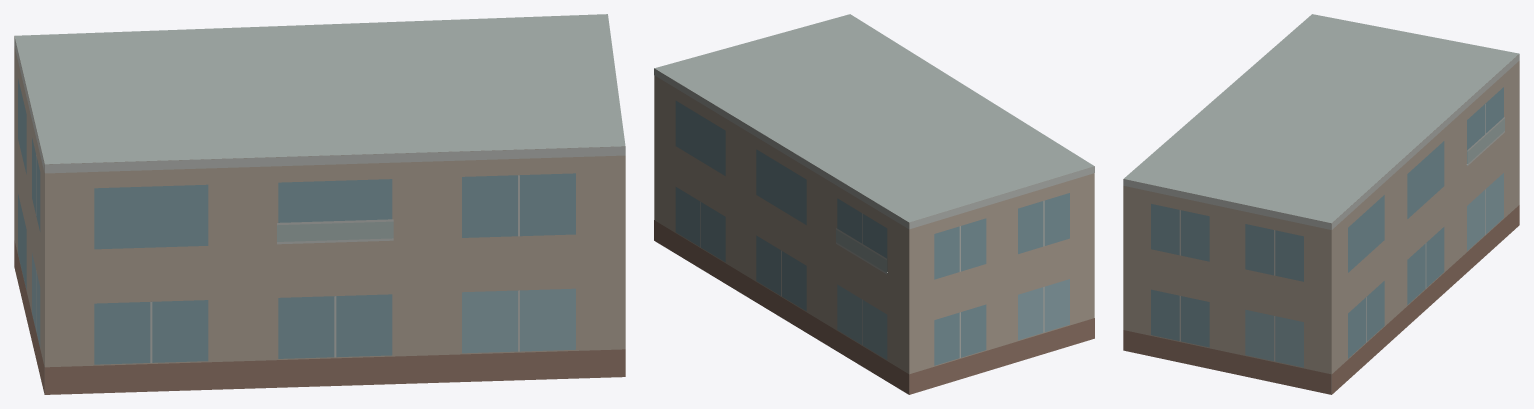
File: survey-upis-32590839.glb
The picture shows the model from 3 angles, left to right: view 1: azimuth 30°, elevation 25°; view 2: azimuth 150°, elevation 25°; view 3: azimuth 270°, elevation 25°; orthographic projection. The views are drawn at different scales.
Visible parts, largest first — view 1: survey-upis-32590839.tmp; view 2: survey-upis-32590839.tmp; view 3: survey-upis-32590839.tmp.
Part boxes in pixels (<box>): survey-upis-32590839.tmp: <box>14,14,625,394</box>; survey-upis-32590839.tmp: <box>654,14,1094,394</box>; survey-upis-32590839.tmp: <box>1123,14,1519,394</box>.
Size of the model in its own units: 15.96 by 6.1 by 12.77.
